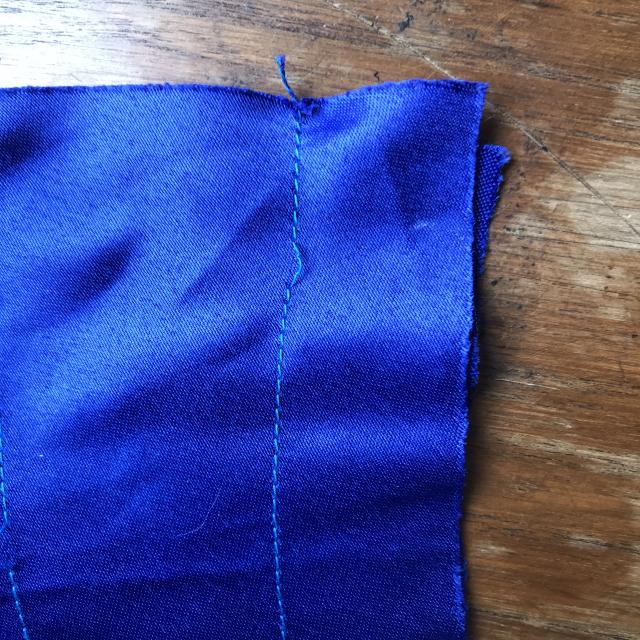good: (258, 376, 296, 496)
skip: (265, 225, 316, 310)
